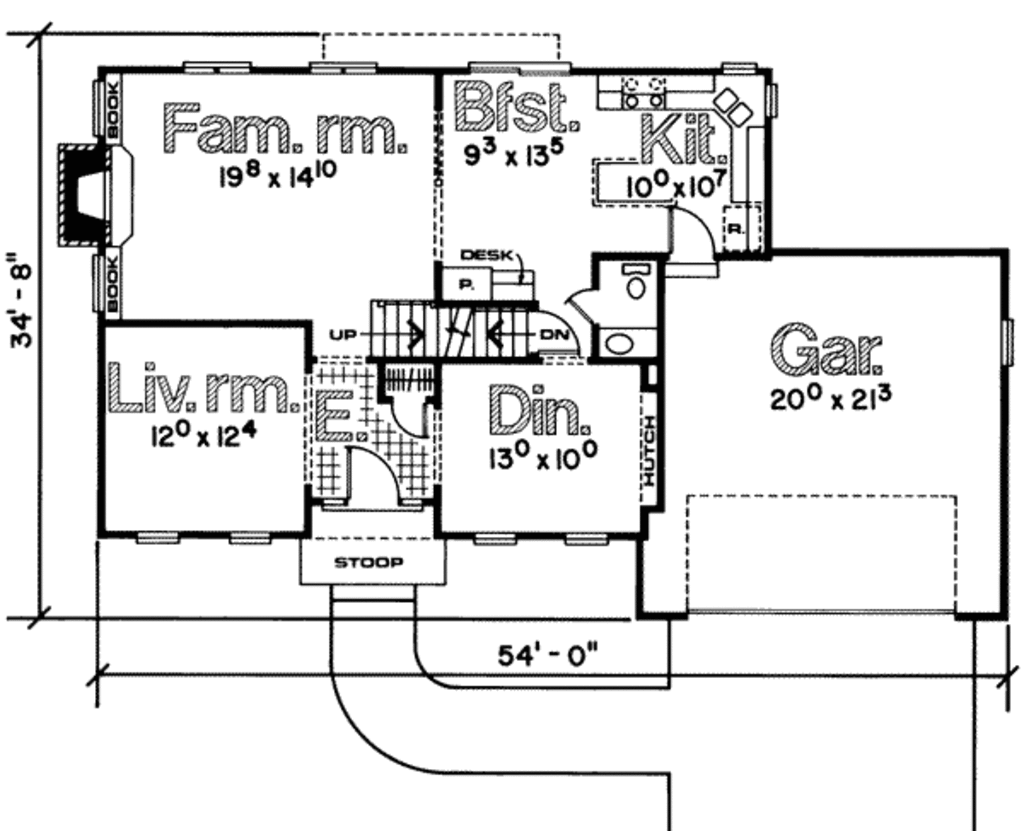door: (340, 442, 409, 507), (664, 206, 716, 267), (534, 306, 581, 359), (390, 398, 433, 442), (565, 285, 598, 325)
large_sink: (608, 256, 659, 301)
small_sink: (592, 324, 665, 365)
stairs: (327, 297, 542, 362)
twin_sink: (712, 87, 756, 129)
window: (175, 55, 255, 81), (304, 54, 378, 77), (557, 529, 610, 554), (470, 527, 519, 548), (717, 58, 764, 79), (225, 527, 272, 548), (133, 529, 181, 545), (1002, 316, 1015, 372), (760, 82, 778, 120)
